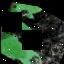Purslane: (0, 0, 63, 64)
